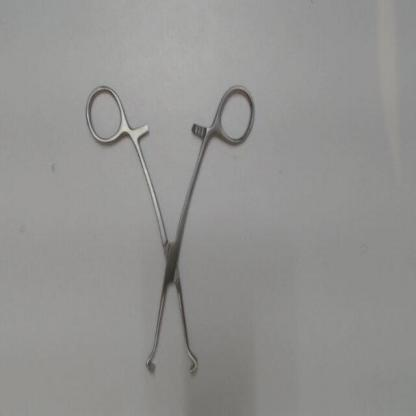Babcock Tissue Forceps: (80, 80, 260, 380)
